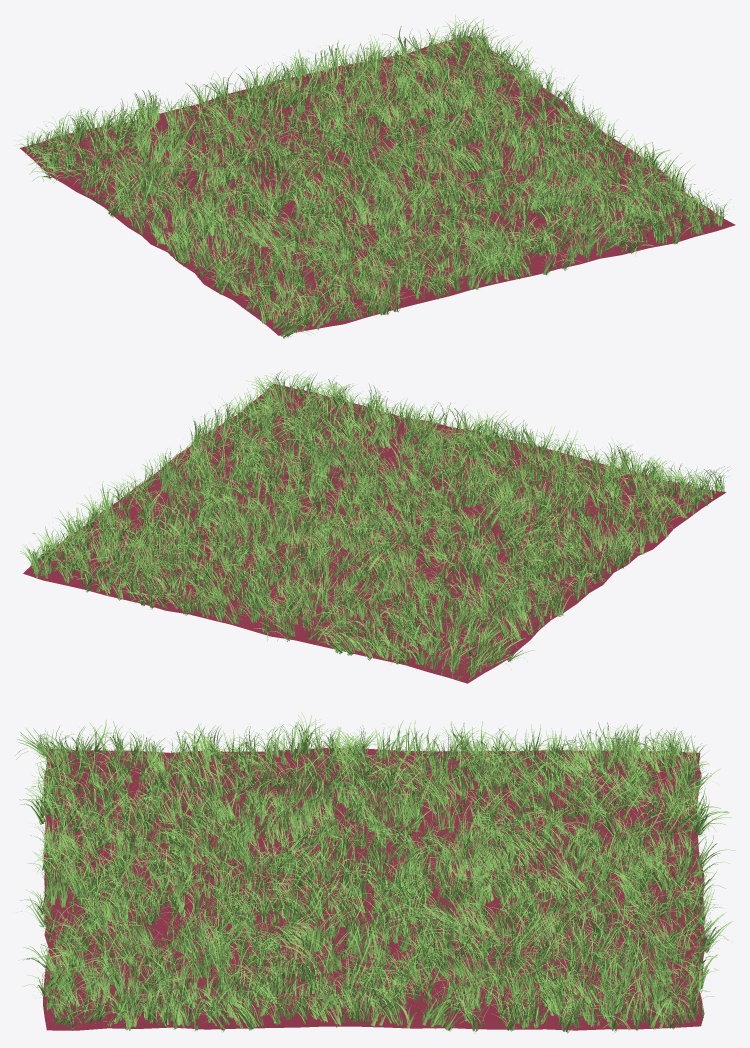
The model's file is Grass6.fbx.
The picture shows the model from 3 angles, top to bottom: view 1: azimuth 30°, elevation 25°; view 2: azimuth 150°, elevation 25°; view 3: azimuth 270°, elevation 25°; orthographic projection. The views are drawn at different scales.
Visible parts, largest first — view 1: Plane; view 2: Plane; view 3: Plane.
Part boxes in pixels (box(x1,y1,x2,y2)): Plane: box(20, 36, 735, 335); Plane: box(23, 383, 726, 683); Plane: box(43, 748, 705, 1030).
Size of the model in its own units: 661 by 159 by 659.
